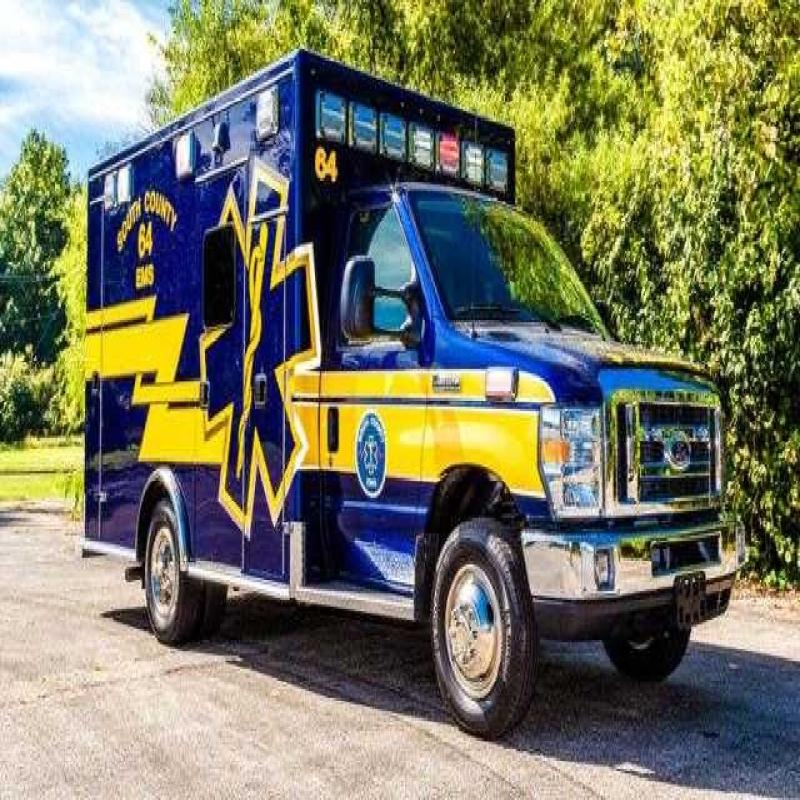AmbulanceSiren: (304, 70, 520, 203)
